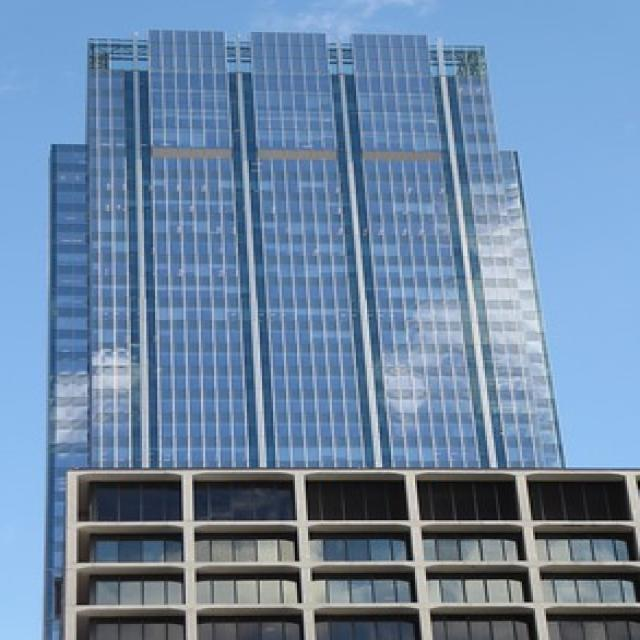building: (36, 22, 584, 640)
